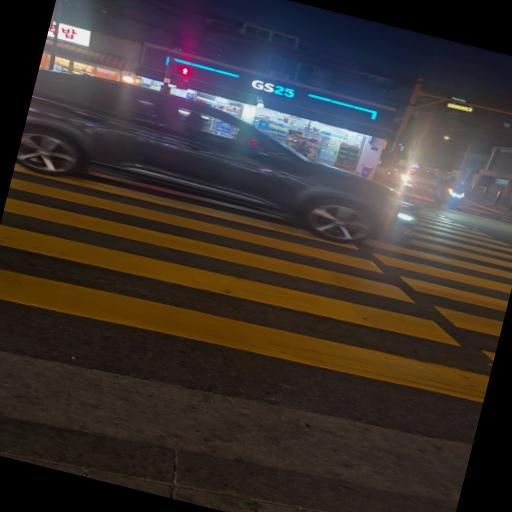yellow-crosswalk: (0, 104, 512, 434)
